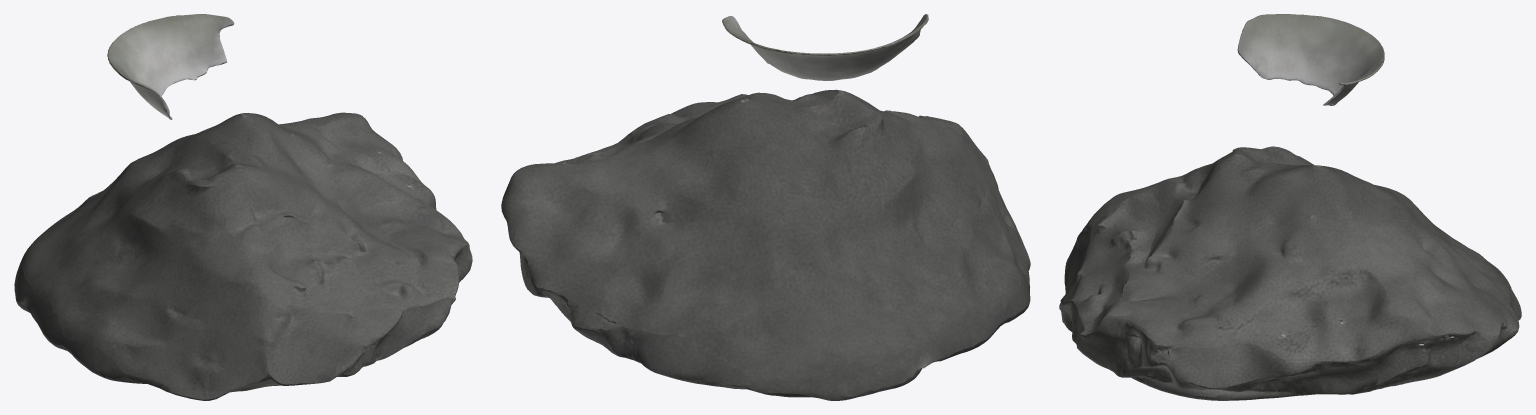
3 views of the same model, side by side, from view 1: azimuth 30°, elevation 25°; view 2: azimuth 150°, elevation 25°; view 3: azimuth 270°, elevation 25° (orthographic). The views are drawn at different scales.
Visible parts, largest first — view 1: world; view 2: world; view 3: world.
Part boxes in pixels (x1=…): world: x1=14, y1=14, x2=472, y2=400; world: x1=501, y1=14, x2=1030, y2=400; world: x1=1059, y1=14, x2=1521, y2=400.
Bounding box in the file's own units: 1.2 × 0.7894 × 1.24.
1 material, 1 textured.
